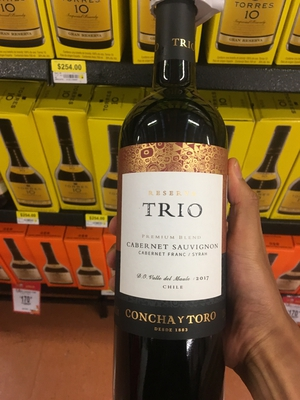trio cabernet sauvignon: (107, 18, 236, 394)
